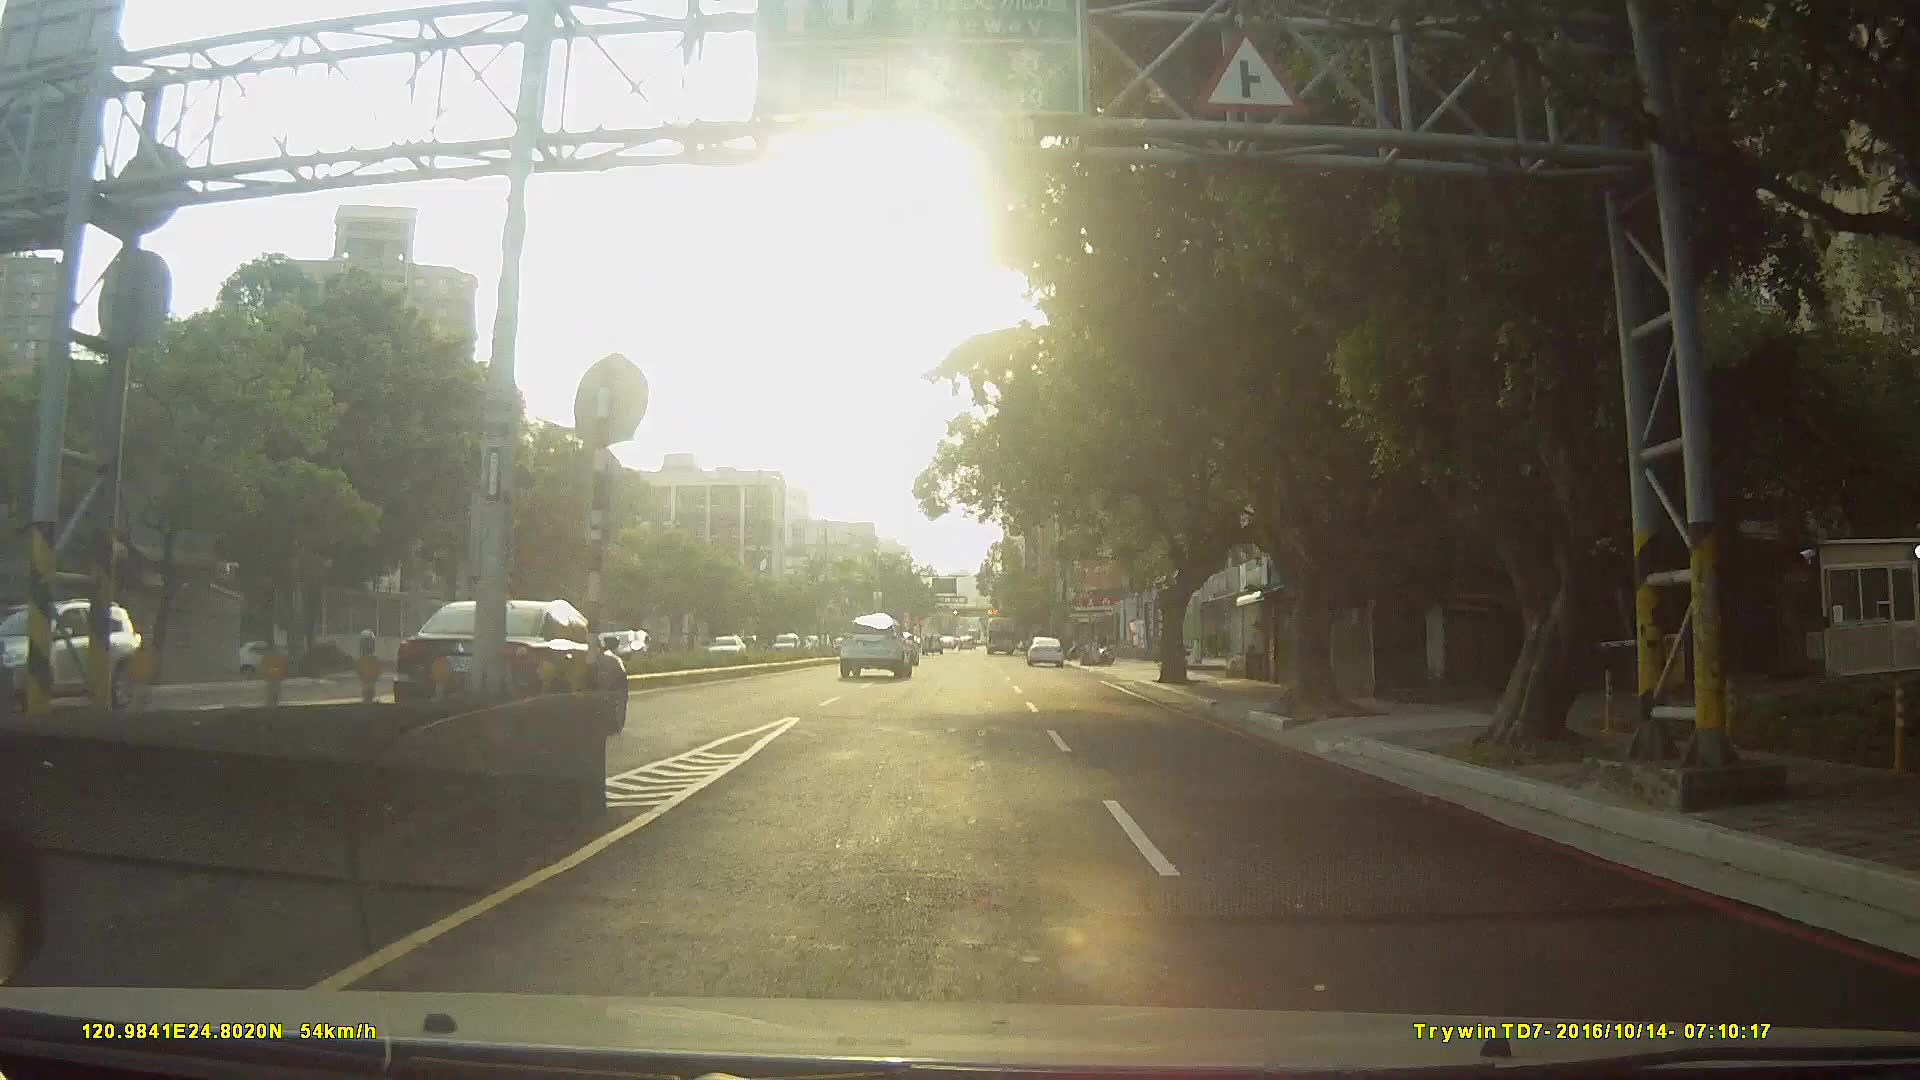pedestrian: (359, 623, 382, 677)
vehicle: (392, 596, 629, 736), (836, 609, 913, 676), (1025, 632, 1066, 666), (983, 612, 1016, 653)
